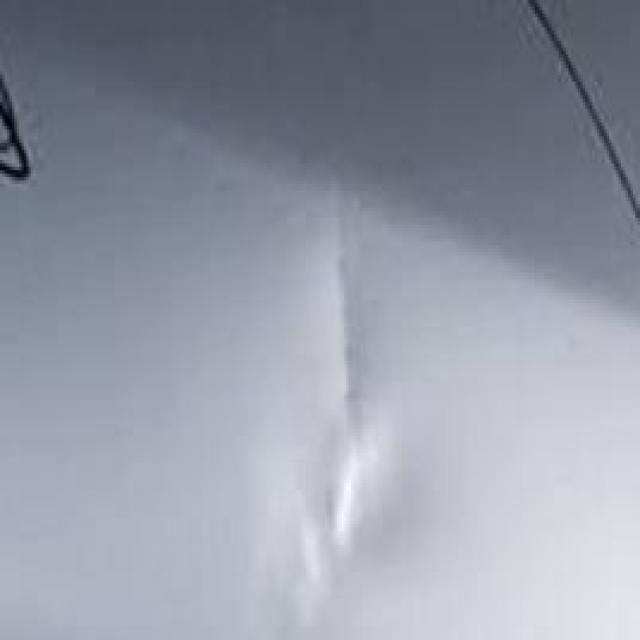dent: (276, 208, 386, 630)
